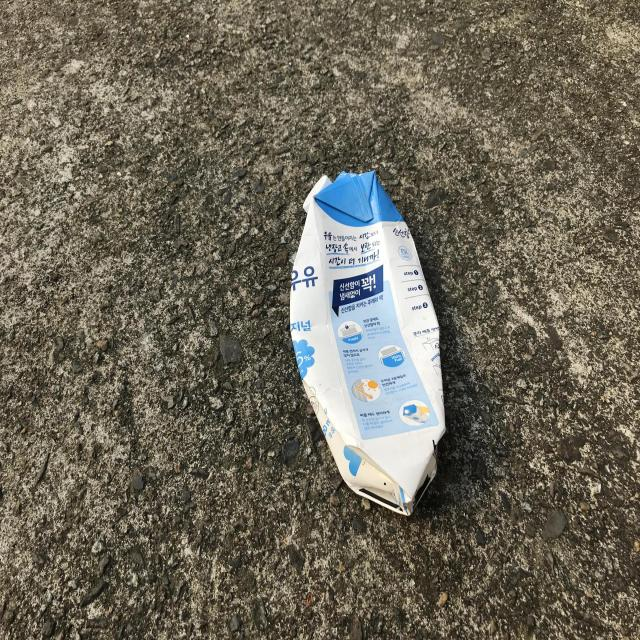paperpack: (290, 171, 446, 515)
